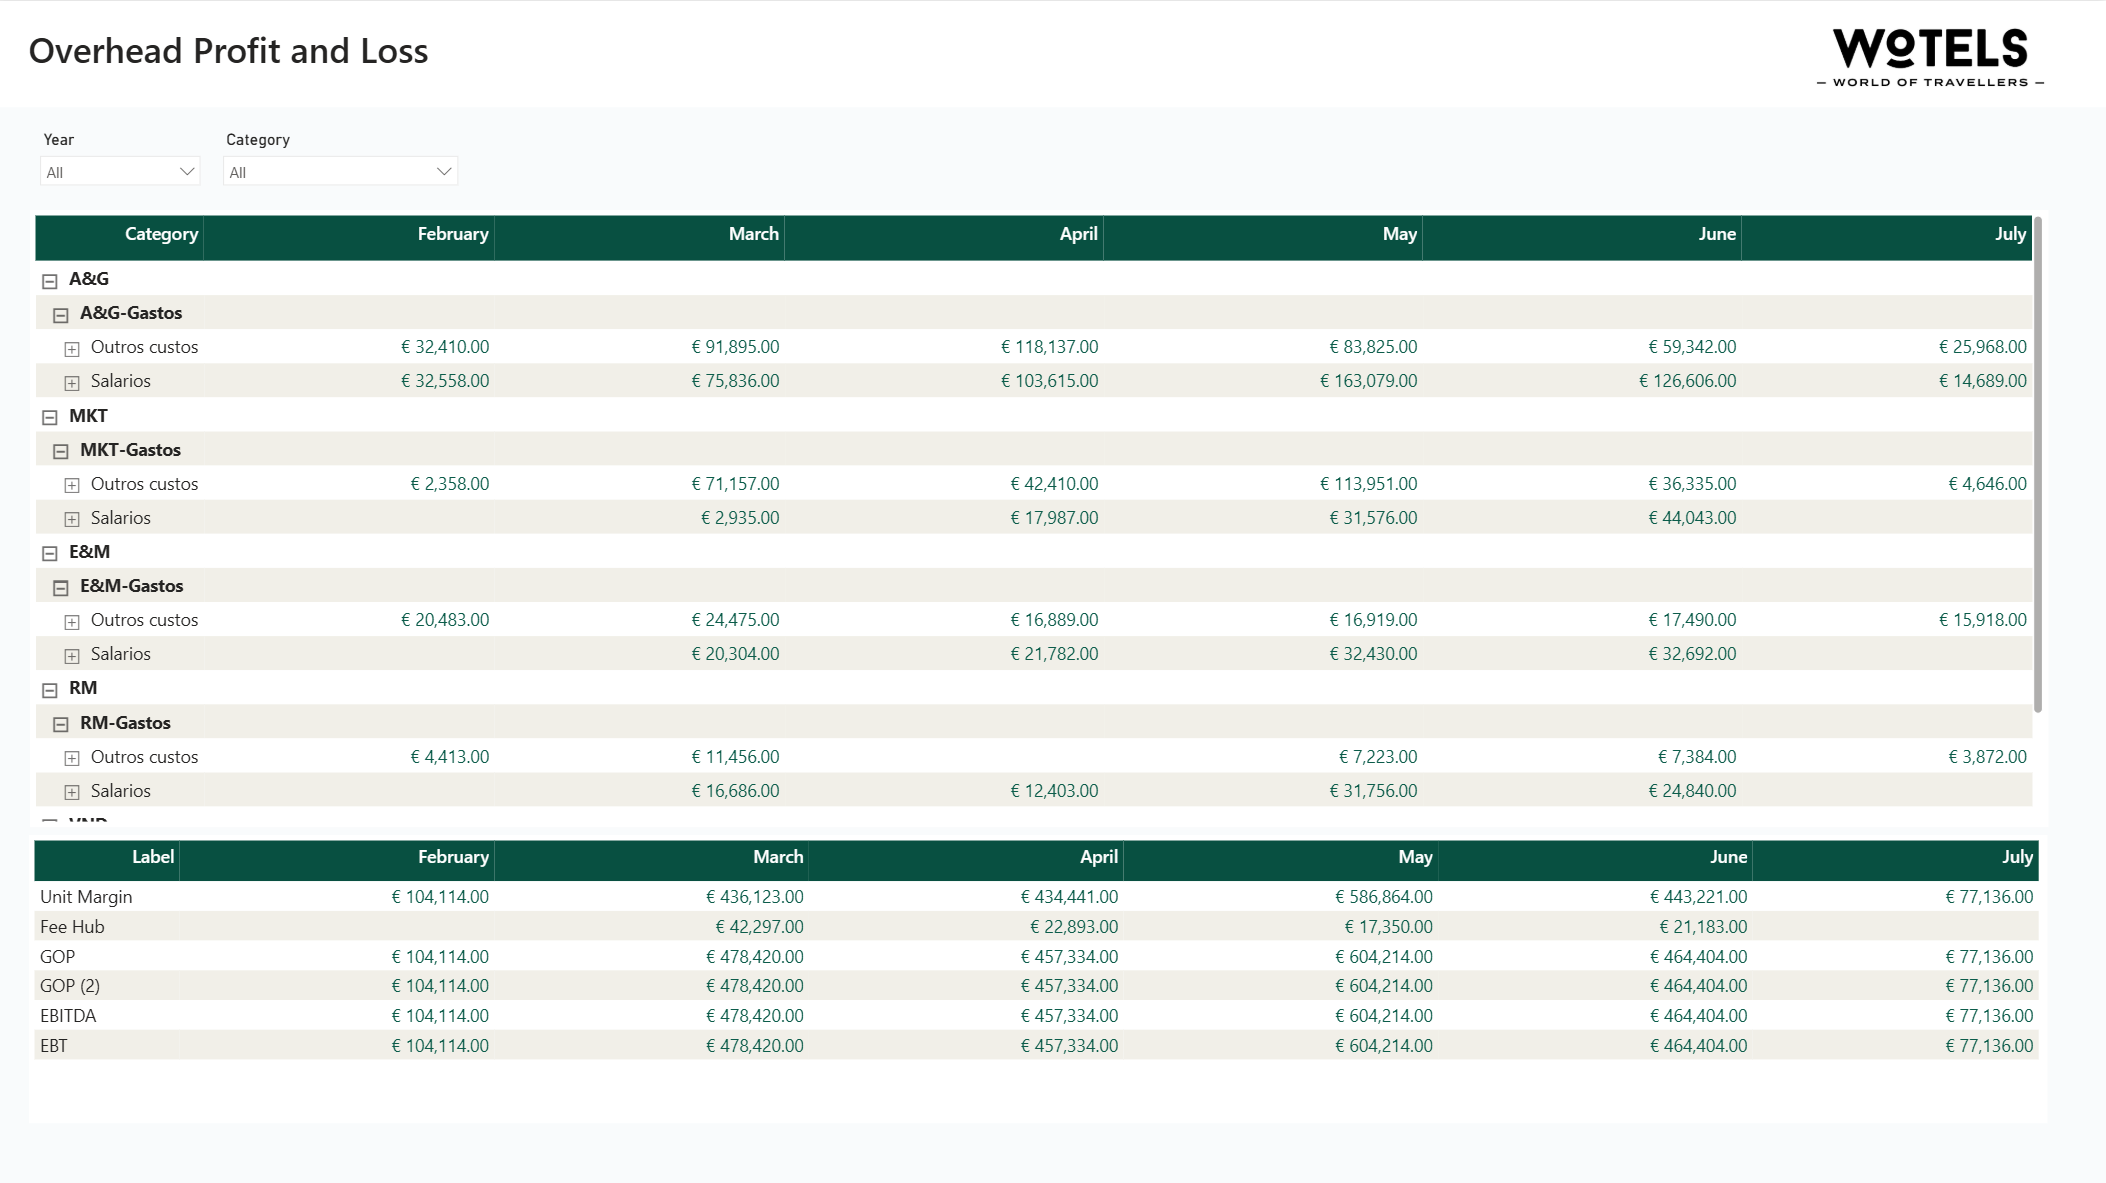

The page's visual inventory and layout, read from the dashboard file:
{"tool":"powerbi","page":{"name":"Overhead P&L","canvas":[1920,1080],"ordinal":3},"visuals":[{"type":"group","id":"g1","title":"Background Shapes","box":[1.2,0,1920.4,96.6],"z":0},{"type":"shape","box":[1.2,0,1920.4,96.6],"z":1000,"group":"g1"},{"type":"pivotTable","fields":{"Columns":["DateTable.Month Name"],"Rows":["Category Sort Table.Category","cost_centers.Sub Category (1)","cost_centers.Sub Category (2)","cost_centers.Sub Category (3)","cost_centers.Sub Category (4)","cost_centers.Cost Center Description","cost_centers.Cost Center ID"],"Values":["KPI_Finance.Actual P&L"]},"box":[31.8,190,1834.5,560.9],"z":1000},{"type":"image","box":[1653.1,0,212.8,96.6],"z":2000,"group":"g1"},{"type":"textbox","box":[25.9,16.1,429.1,62.6],"z":3000,"group":"g1"},{"type":"slicer","fields":{"Values":["Category Sort Table.Category"]},"box":[197.3,112.7,233.6,77.3],"z":3000},{"type":"slicer","fields":{"Values":["DateTable.Date.Variation.Date Hierarchy.Year"]},"box":[31.2,113,166.4,76.4],"z":7000},{"type":"pivotTable","fields":{"Columns":["DateTable.Month Name"],"Rows":["Footer_Table.Label"],"Values":["Footer_Table.Footer_Value"]},"box":[30.9,758.2,1835.5,261.8],"z":8000}]}

Visuals, with their boxes in screenshot pixels (x1, y1, x2, y2), scaled from the page's 1920x1080 canvas onto the 2106x1183 screenshot:
"Background Shapes" group: (1,0,2105,106)
shape: (1,0,2105,106)
pivotTable - DateTable.Month Name x Category Sort Table.Category: (35,208,2047,823)
image: (1813,0,2047,106)
textbox: (28,18,499,86)
slicer - Category Sort Table.Category: (216,123,473,208)
slicer - DateTable.Date.Variation.Date Hierarchy.Year: (34,124,217,207)
pivotTable - DateTable.Month Name x Footer_Table.Label: (34,831,2047,1117)
